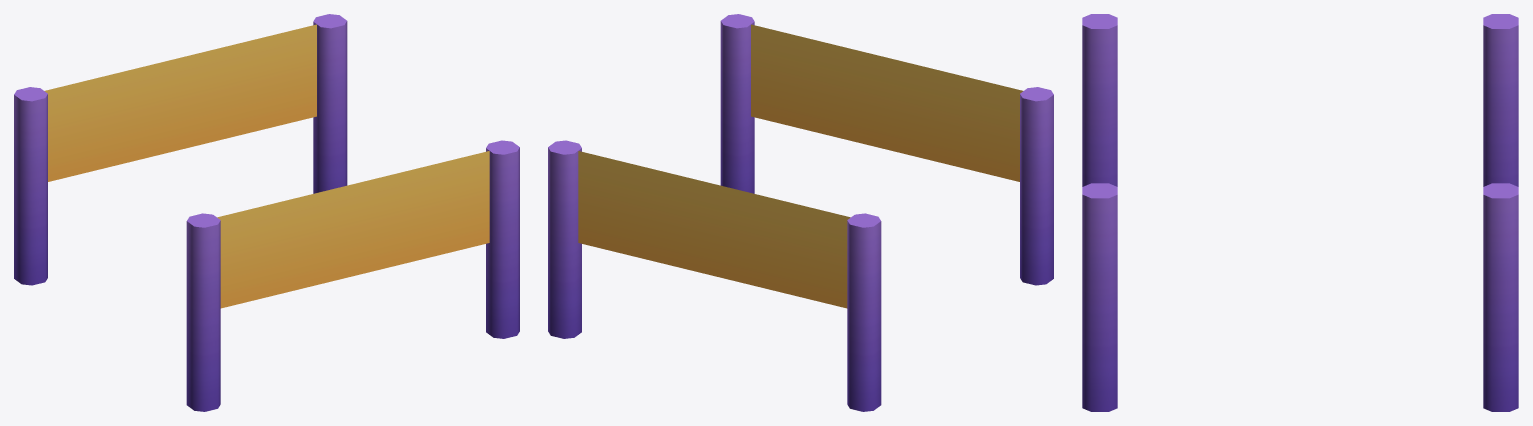
File: kenney-marble-banner-double.glb
The picture shows the model from 3 angles, left to right: view 1: azimuth 30°, elevation 25°; view 2: azimuth 150°, elevation 25°; view 3: azimuth 270°, elevation 25°; orthographic projection. The views are drawn at different scales.
Visible parts, largest first — view 1: banner-double; view 2: banner-double; view 3: banner-double.
Part boxes in pixels (x1=…): banner-double: x1=14, y1=14, x2=519, y2=411; banner-double: x1=548, y1=14, x2=1053, y2=411; banner-double: x1=1082, y1=14, x2=1518, y2=411.
Bounding box in the file's own units: 0.925 × 0.5001 × 0.925.
Materials: 1 (1 with a texture image).
